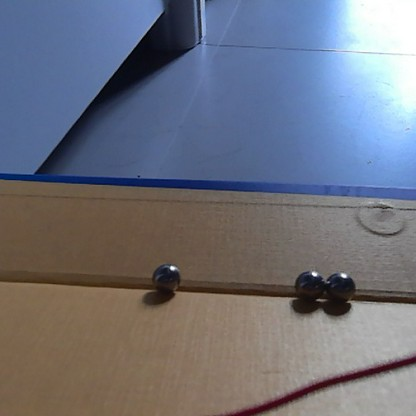ironball: (291, 268, 327, 302), (321, 270, 355, 305), (151, 262, 182, 293)
